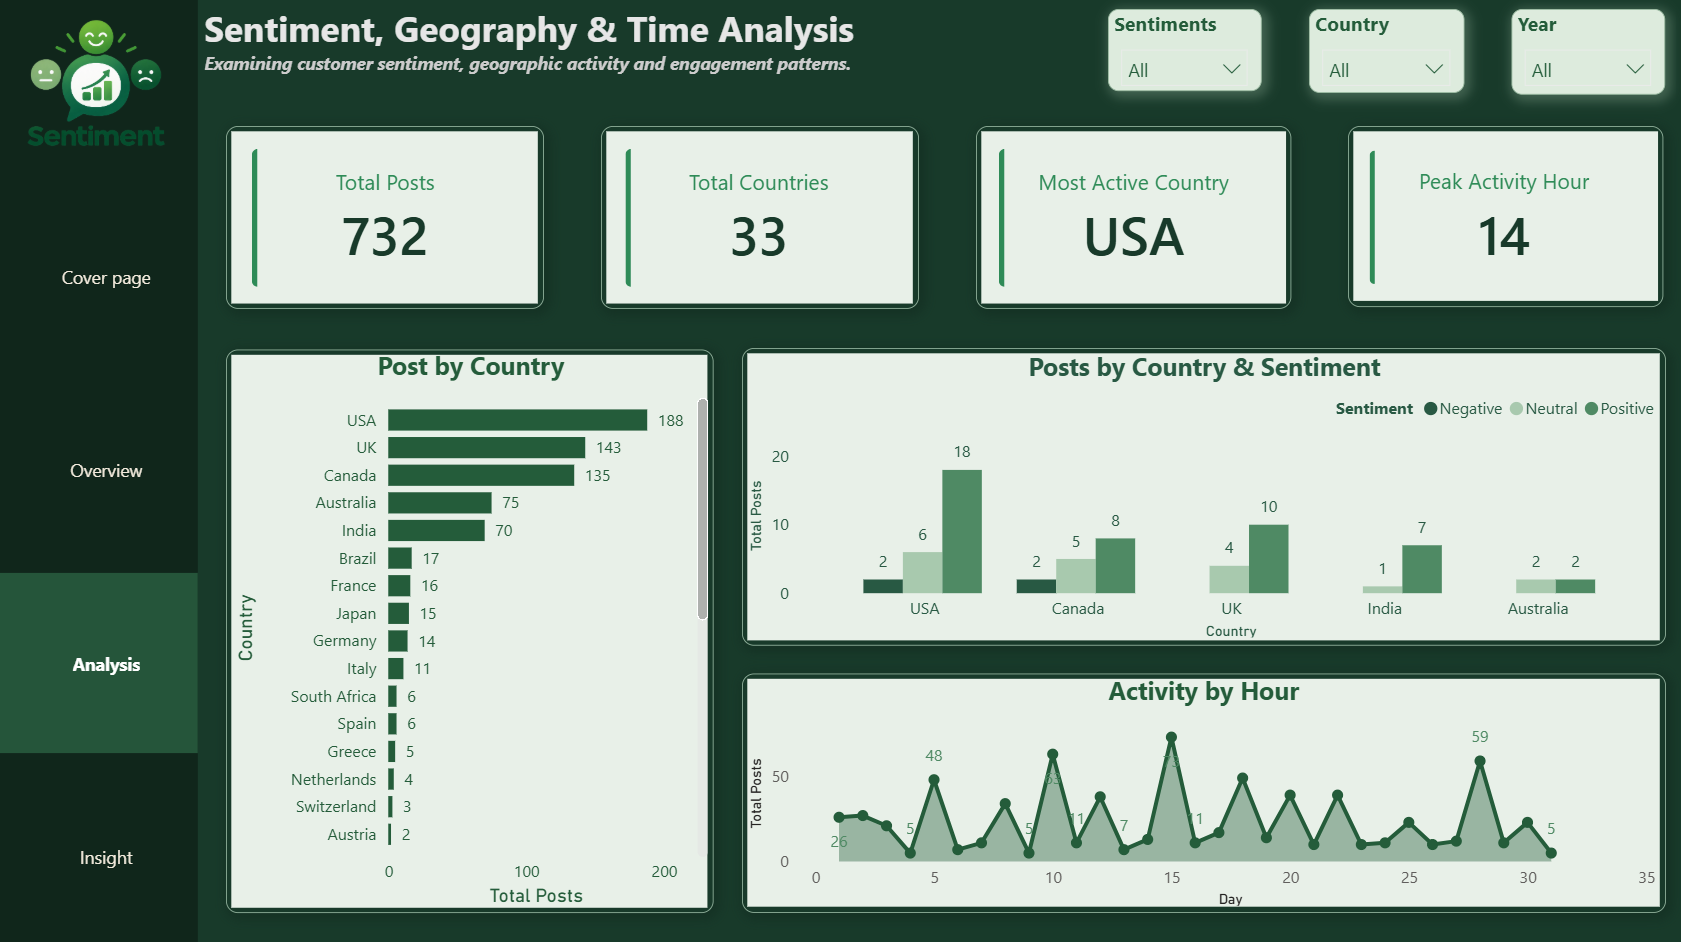

The page's visual inventory and layout, read from the dashboard file:
{"tool":"powerbi","page":{"name":"Analysis","canvas":[1280,720],"ordinal":1},"visuals":[{"type":"shape","box":[4.6,0,1270.4,719.4],"z":0},{"type":"shape","box":[0,0,153.1,718.7],"z":1000},{"type":"shape","box":[174.3,266,367.9,425.7],"z":2000},{"type":"shape","box":[563.3,264.9,697.1,224.8],"z":3000},{"type":"shape","box":[563.3,511.1,697.1,180.6],"z":4000},{"type":"clusteredBarChart","title":"Post by Country","fields":{"Category":["3) Sentiment dataset.Country"],"Y":["3) Sentiment dataset.Total Posts"]},"box":[174.9,265.3,367.4,425.7],"z":5000},{"type":"lineChart","title":"Activity by Hour","fields":{"Y":["3) Sentiment dataset.Total Posts"],"Category":["3) Sentiment dataset.Hour","3) Sentiment dataset.Day"]},"box":[563.3,511.1,697.1,180.6],"z":6000},{"type":"shape","box":[174.5,97.1,239.8,138.1],"z":7000},{"type":"shape","box":[740.2,97.1,238.3,138.1],"z":8000},{"type":"shape","box":[1021.5,97.1,238.3,136.6],"z":9000},{"type":"shape","box":[457.4,97.1,239.8,138.1],"z":10000},{"type":"cardVisual","fields":{"Data":["3) Sentiment dataset.Total Posts"]},"box":[176.1,97.1,236.8,138.1],"z":11000},{"type":"cardVisual","fields":{"Data":["3) Sentiment dataset.Total Countries"]},"box":[458.4,97.1,236.8,138.1],"z":12000},{"type":"cardVisual","fields":{"Data":["3) Sentiment dataset.Top Engaging Country"]},"box":[740.7,97.1,238.3,138.1],"z":13000},{"type":"cardVisual","fields":{"Data":["3) Sentiment dataset.Peak Activity Hour"]},"box":[1020,98.7,238.3,135.1],"z":14000},{"type":"textbox","box":[152.9,0,667.8,89.3],"z":15000},{"type":"clusteredColumnChart","title":"Posts by Country & Sentiment","fields":{"Category":["3) Sentiment dataset.Country"],"Y":["3) Sentiment dataset.Total Posts"],"Series":["3) Sentiment dataset.Sentiment"]},"box":[563.3,266.5,698,222.6],"z":16000},{"type":"slicer","title":"Sentiments","fields":{"Values":["3) Sentiment dataset.Sentiment"]},"box":[840.3,9,116.2,62],"z":17000},{"type":"slicer","title":"Country","fields":{"Values":["3) Sentiment dataset.Country"]},"box":[992,9,117.5,63.3],"z":18000},{"type":"slicer","title":"Year","fields":{"Values":["3) Sentiment dataset.Year"]},"box":[1145,9,116.2,64.6],"z":19000},{"type":"pageNavigator","box":[0,142.9,153.1,577.3],"z":20000},{"type":"image","box":[0,1.5,153.1,129.7],"z":21000}]}

Visuals, with their boxes on the page's 1280x720 design canvas (x1, y1, x2, y2). These are canvas units, not pixel positions in the 1681x942 screenshot, which may show the page scaled, cropped or inside an application window:
shape: Rect(5, 0, 1275, 719)
shape: Rect(0, 0, 153, 719)
shape: Rect(174, 266, 542, 692)
shape: Rect(563, 265, 1260, 490)
shape: Rect(563, 511, 1260, 692)
"Post by Country" clusteredBarChart: Rect(175, 265, 542, 691)
"Activity by Hour" lineChart: Rect(563, 511, 1260, 692)
shape: Rect(174, 97, 414, 235)
shape: Rect(740, 97, 978, 235)
shape: Rect(1022, 97, 1260, 234)
shape: Rect(457, 97, 697, 235)
cardVisual - 3) Sentiment dataset.Total Posts: Rect(176, 97, 413, 235)
cardVisual - 3) Sentiment dataset.Total Countries: Rect(458, 97, 695, 235)
cardVisual - 3) Sentiment dataset.Top Engaging Country: Rect(741, 97, 979, 235)
cardVisual - 3) Sentiment dataset.Peak Activity Hour: Rect(1020, 99, 1258, 234)
textbox: Rect(153, 0, 821, 89)
"Posts by Country & Sentiment" clusteredColumnChart: Rect(563, 266, 1261, 489)
"Sentiments" slicer: Rect(840, 9, 956, 71)
"Country" slicer: Rect(992, 9, 1110, 72)
"Year" slicer: Rect(1145, 9, 1261, 74)
pageNavigator: Rect(0, 143, 153, 720)
image: Rect(0, 2, 153, 131)
